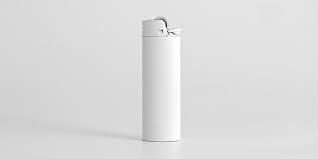lighter: (141, 13, 183, 141)
